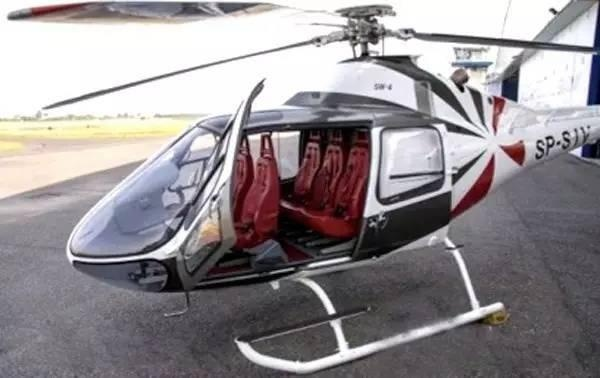airplane: (39, 1, 600, 344)
